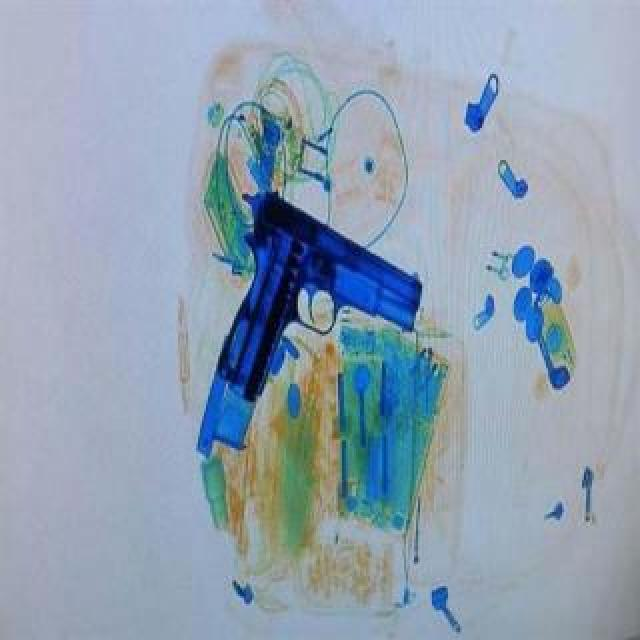gun: (192, 184, 426, 460)
